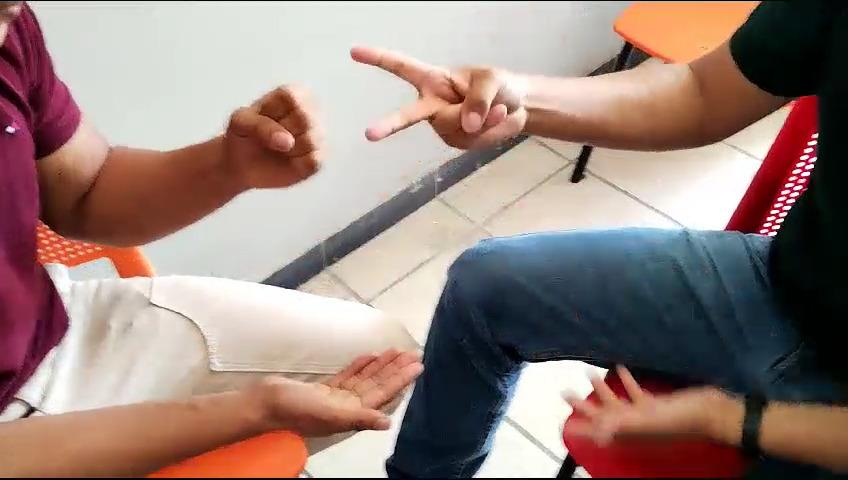Scissor: (339, 33, 541, 163)
Stone: (217, 74, 335, 206)
